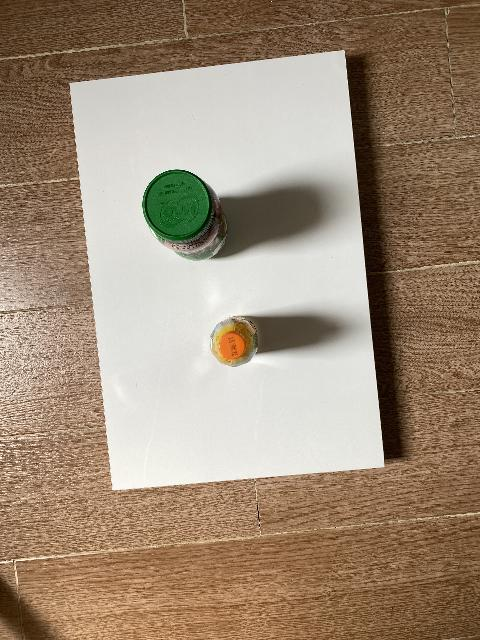milo: (142, 169, 228, 261)
teppy_orange_juice: (210, 316, 258, 367)
